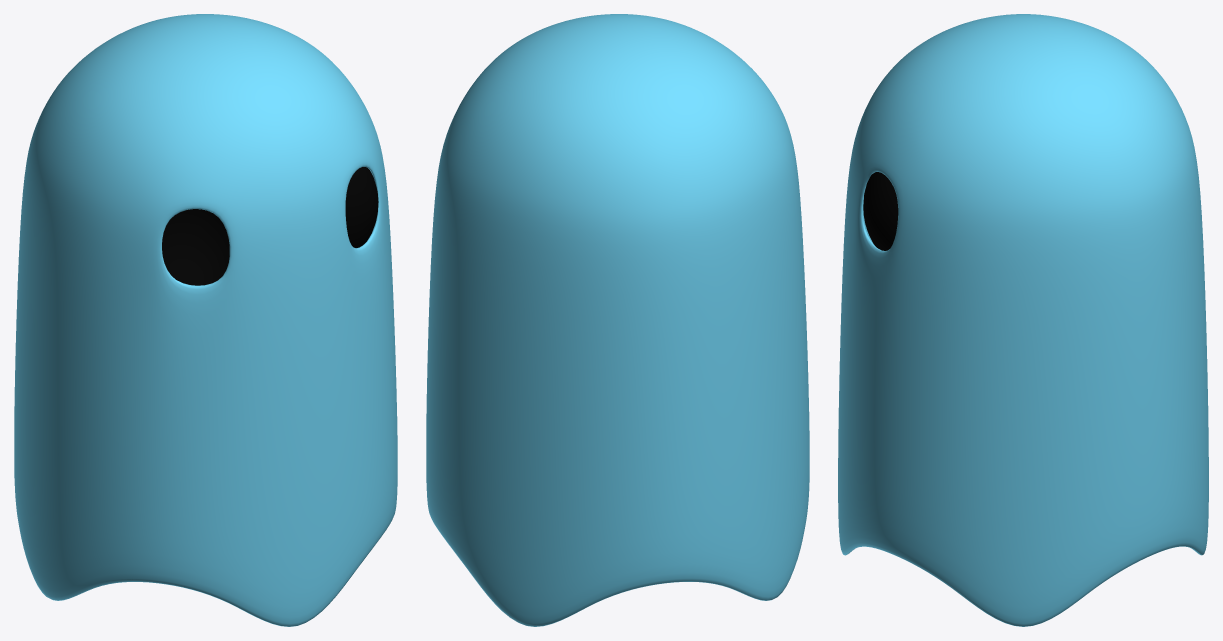
Rendered from INKY.fbx.
The picture shows the model from 3 angles, left to right: view 1: azimuth 30°, elevation 25°; view 2: azimuth 150°, elevation 25°; view 3: azimuth 270°, elevation 25°; orthographic projection.
Parts seen in each view (by area): view 1: ghosty:pCube3 ghosty:polySurface1, ghosty:pCube3 ghosty:pSphere1 ghosty:pSphere2 ghosty:polySur; view 2: ghosty:pCube3 ghosty:polySurface1; view 3: ghosty:pCube3 ghosty:polySurface1, ghosty:pCube3 ghosty:pSphere1 ghosty:pSphere2 ghosty:polySur.
Boxes of the visible parts, box(x1,y1,x2,y2) form: ghosty:pCube3 ghosty:polySurface1: box(14, 14, 397, 626); ghosty:pCube3 ghosty:pSphere1 ghosty:pSphere2 ghosty:polySur: box(162, 167, 378, 285); ghosty:pCube3 ghosty:polySurface1: box(426, 14, 809, 626); ghosty:pCube3 ghosty:polySurface1: box(838, 14, 1208, 626); ghosty:pCube3 ghosty:pSphere1 ghosty:pSphere2 ghosty:polySur: box(863, 172, 898, 250).
Size of the model in its own units: 88.31 by 136 by 88.31.
